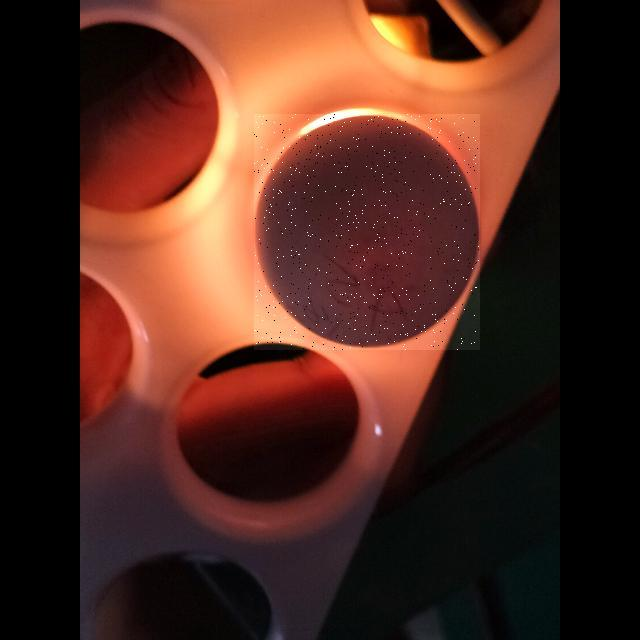B - Fair: (254, 114, 480, 350)
